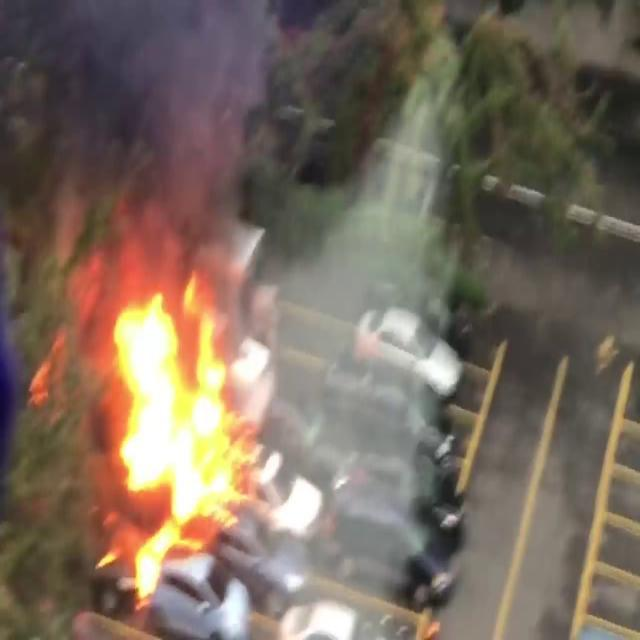Fire: (88, 266, 309, 594)
Smoke: (253, 59, 484, 626), (0, 0, 302, 308)
